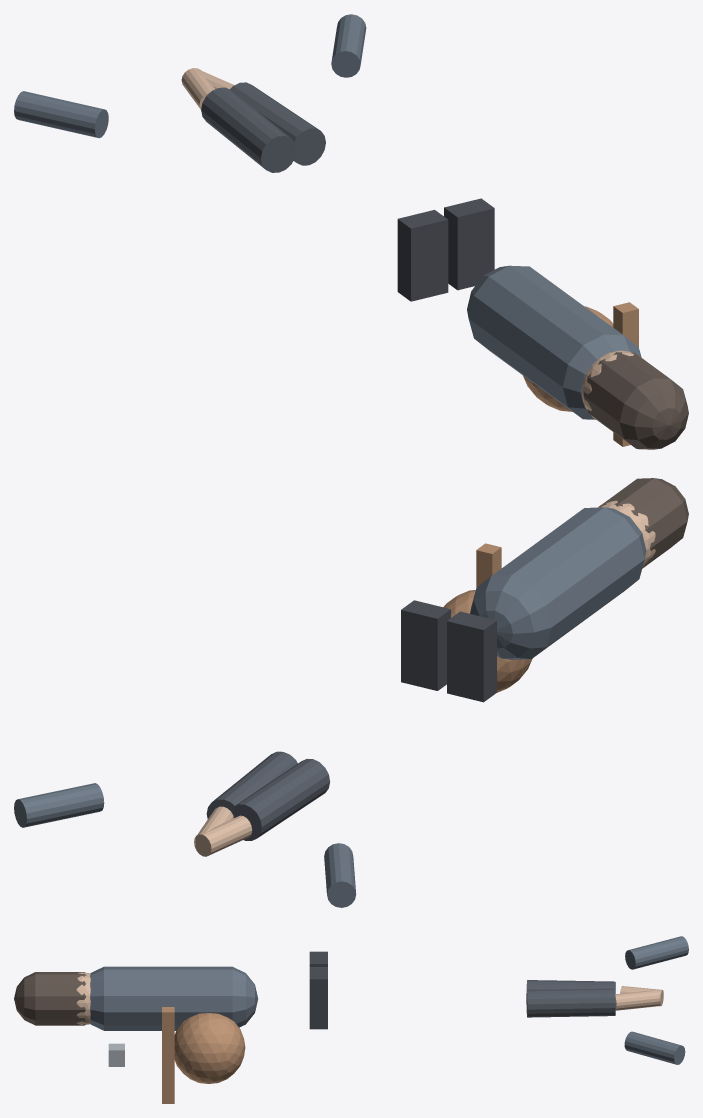
The model's file is guitarist.glb.
3 renders of one model, top to bottom at view 1: azimuth 30°, elevation 25°; view 2: azimuth 150°, elevation 25°; view 3: azimuth 270°, elevation 25°, orthographic. The views are drawn at different scales.
Visible parts, largest first — view 1: Guitarist_torso, Guitarist_hair, Guitarist_shoe_L, Guitarist_leg_R, Guitarist_shoe_R, Guitarist_upper_arm_L, Guitarist_leg_L, Guitarist_upper_arm_R, guitar_neck, Guitarist_forearm_R; view 2: Guitarist_torso, Guitarist_shoe_L, Guitarist_shoe_R, Guitarist_leg_R, Guitarist_hair, Guitarist_upper_arm_R, Guitarist_leg_L, Guitarist_upper_arm_L, Guitarist_forearm_R, guitar_body, guitar_neck, Guitarist_head; view 3: Guitarist_torso, guitar_body, Guitarist_hair, Guitarist_leg_L, Guitarist_upper_arm_L, guitar_neck, Guitarist_upper_arm_R, Guitarist_shoe_R, Guitarist_leg_R, Guitarist_forearm_L, Guitarist_head, guitar_headstock (+1 smaller).
Part boxes in pixels (left/top/right/bottom): Guitarist_torso: left=467, top=265, right=641, bottom=419; Guitarist_hair: left=583, top=352, right=688, bottom=449; Guitarist_shoe_L: left=397, top=210, right=448, bottom=301; Guitarist_leg_R: left=201, top=87, right=296, bottom=172; Guitarist_shoe_R: left=444, top=198, right=494, bottom=290; Guitarist_upper_arm_L: left=14, top=91, right=108, bottom=138; Guitarist_leg_L: left=230, top=82, right=325, bottom=165; Guitarist_upper_arm_R: left=331, top=14, right=366, bottom=77; guitar_neck: left=613, top=302, right=638, bottom=446; Guitarist_forearm_R: left=181, top=68, right=214, bottom=109; Guitarist_torso: left=470, top=507, right=646, bottom=659; Guitarist_shoe_L: left=447, top=611, right=496, bottom=702; Guitarist_shoe_R: left=401, top=600, right=450, bottom=690; Guitarist_leg_R: left=235, top=758, right=330, bottom=840; Guitarist_hair: left=599, top=478, right=688, bottom=565; Guitarist_upper_arm_R: left=14, top=783, right=104, bottom=827; Guitarist_leg_L: left=206, top=751, right=297, bottom=818; Guitarist_upper_arm_L: left=324, top=843, right=356, bottom=907; Guitarist_forearm_R: left=194, top=815, right=252, bottom=856; guitar_body: left=443, top=590, right=532, bottom=692; guitar_neck: left=476, top=543, right=501, bottom=587; Guitarist_head: left=598, top=500, right=655, bottom=568; Guitarist_torso: left=90, top=966, right=258, bottom=1030; guitar_body: left=174, top=1013, right=245, bottom=1083; Guitarist_hair: left=14, top=972, right=86, bottom=1025; Guitarist_leg_L: left=526, top=988, right=615, bottom=1017; Guitarist_upper_arm_L: left=625, top=936, right=688, bottom=969; guitar_neck: left=162, top=1007, right=174, bottom=1103; Guitarist_upper_arm_R: left=624, top=1031, right=685, bottom=1064; Guitarist_shoe_R: left=309, top=967, right=327, bottom=1029; Guitarist_leg_R: left=526, top=980, right=615, bottom=1003; Guitarist_forearm_L: left=615, top=990, right=660, bottom=1010; Guitarist_head: left=76, top=972, right=90, bottom=1024; guitar_headstock: left=108, top=1043, right=124, bottom=1066.
Bounding box in the file's own units: 1.5 × 0.675 × 3.67.
